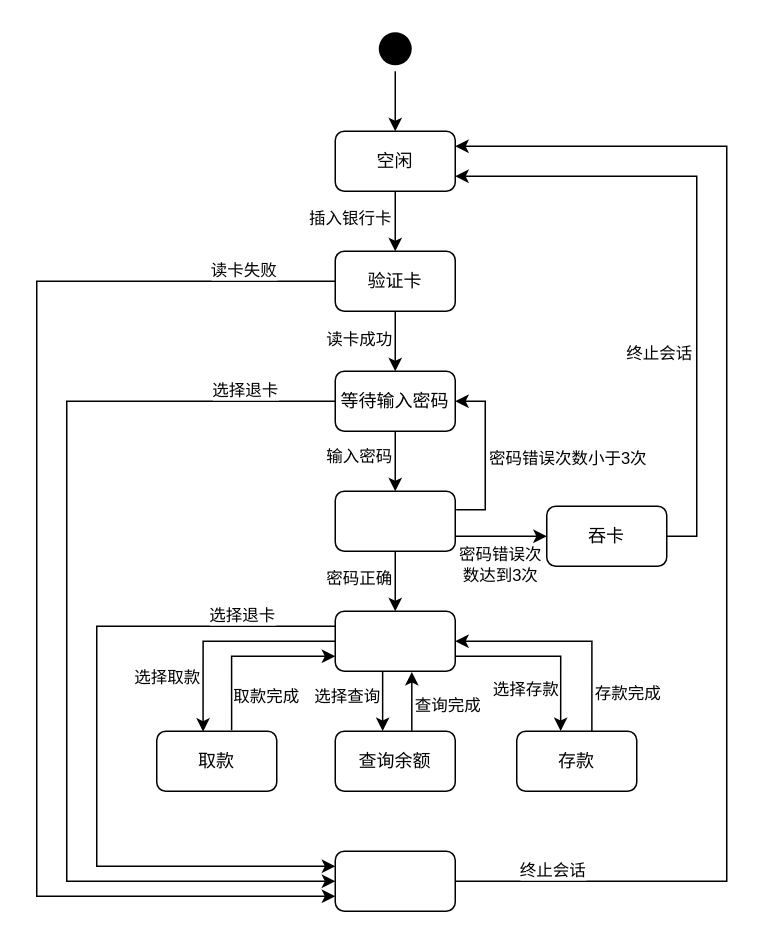
Some shapes in this 765 by 938 pixel diagram are drawn without their labels. The shapes that lost their labels are listed below. From the top down, each one's centre as x and y in pixels, then its label:
At pixel 394 520: "验证密码".
At pixel 394 640: "等待选择业务".
At pixel 394 880: "退卡".
